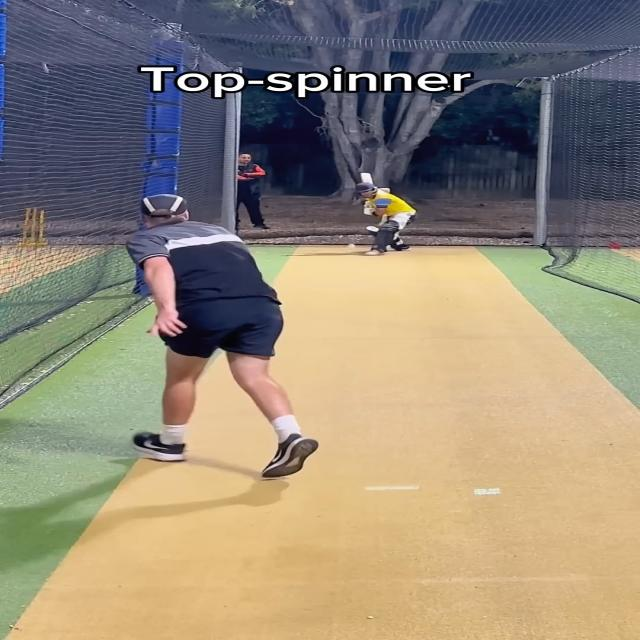Cricket ball: (347, 243, 356, 249)
